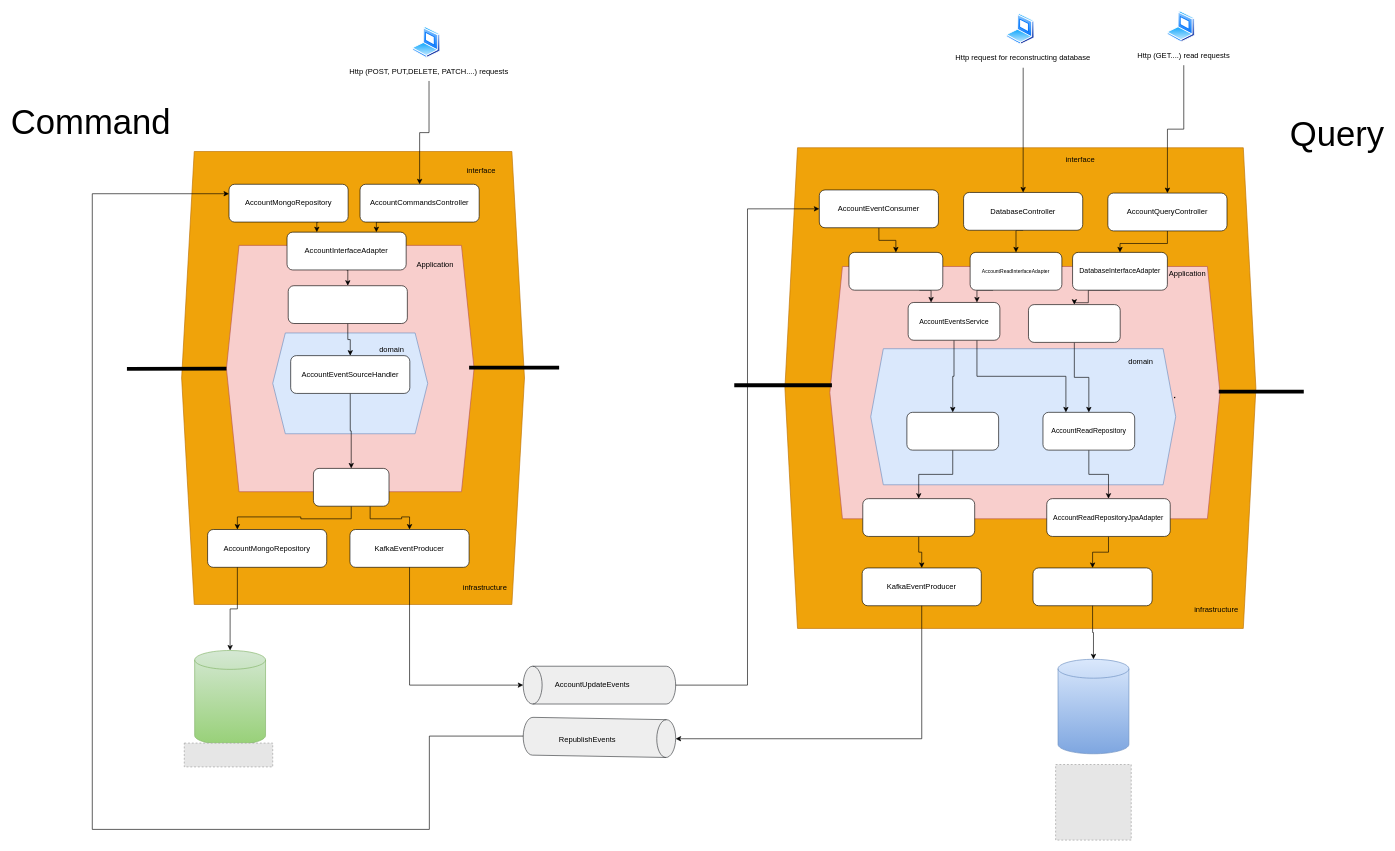
This 1395x851 diagram has some shape labels left out. Grey dashed boxes stand in for pictures. Here are the shapes that lost their labels. From the top down, the box of each, then its label:
(848, 252, 943, 290): AccountEventsInterfaceAdapter
(288, 285, 407, 324): AccountCommandHandler
(1028, 304, 1120, 342): AccountReadService
(906, 412, 999, 450): DbEventPublisher
(313, 468, 389, 506): Account event store
(862, 498, 975, 536): DbEventPublisherKafkaAdapter
(1032, 567, 1152, 606): AccountJpaRepository
